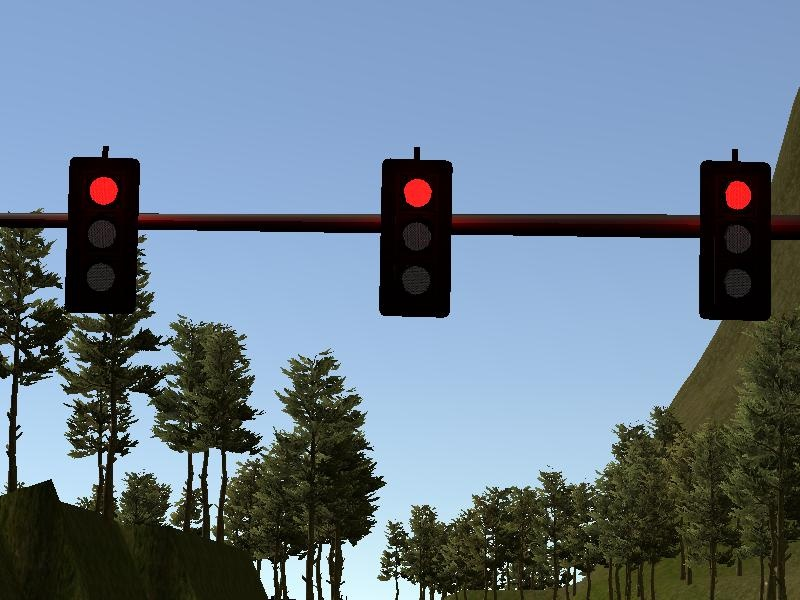red: (59, 155, 141, 315), (695, 160, 772, 324), (377, 157, 455, 318)
